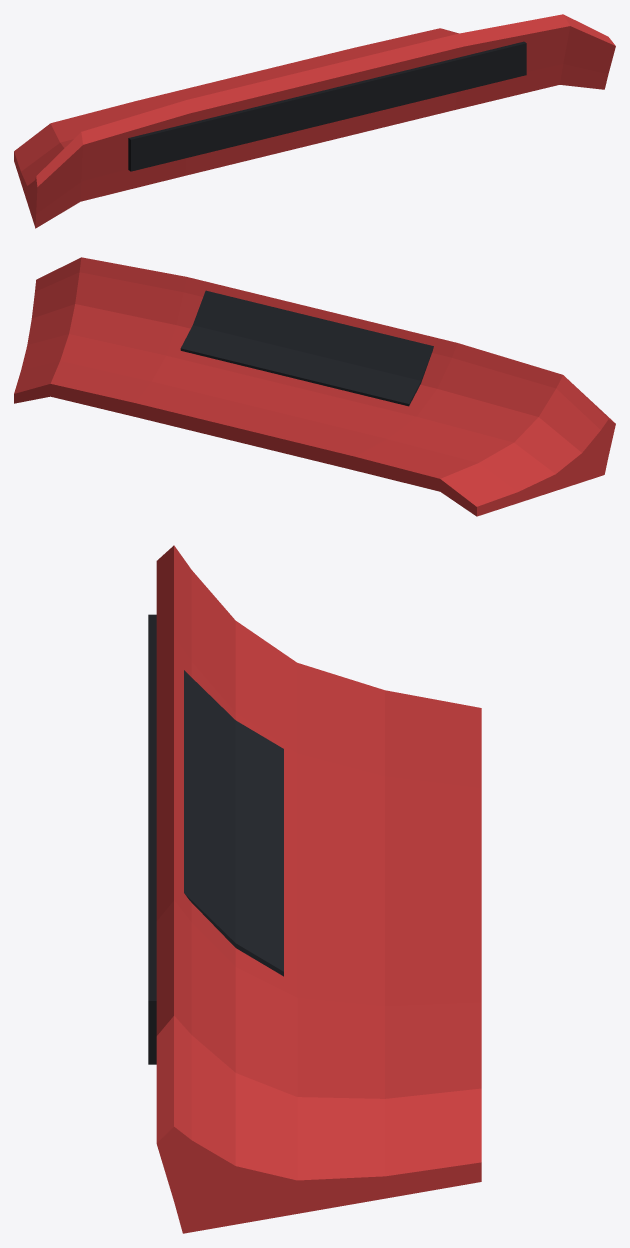
Rendered from spoiler_ducktail.glb.
The picture shows the model from 3 angles, top to bottom: view 1: azimuth 30°, elevation 25°; view 2: azimuth 150°, elevation 25°; view 3: azimuth 270°, elevation 25°; orthographic projection. The views are drawn at different scales.
Visible parts, largest first — view 1: Body; view 2: Body; view 3: Body.
Boxes of the visible parts, left/top/right/bottom form: Body: left=14, top=14, right=615, bottom=228; Body: left=14, top=257, right=615, bottom=516; Body: left=148, top=545, right=481, bottom=1233.
Size of the model in its own units: 1.52 by 0.236 by 0.3795.
